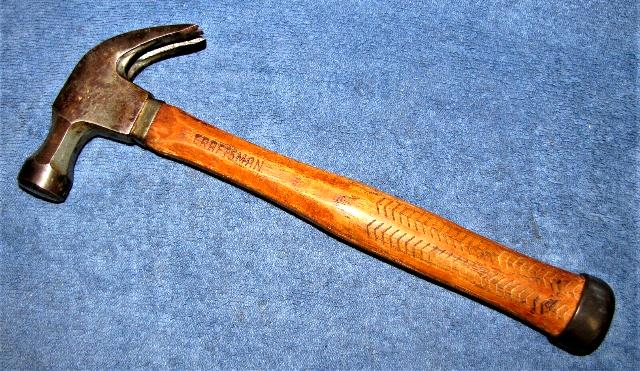hammer: (15, 15, 621, 361)
